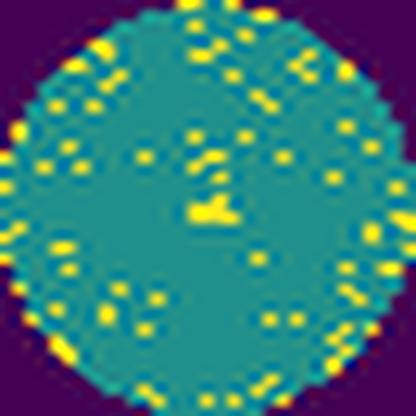Center: (183, 189, 253, 232)
